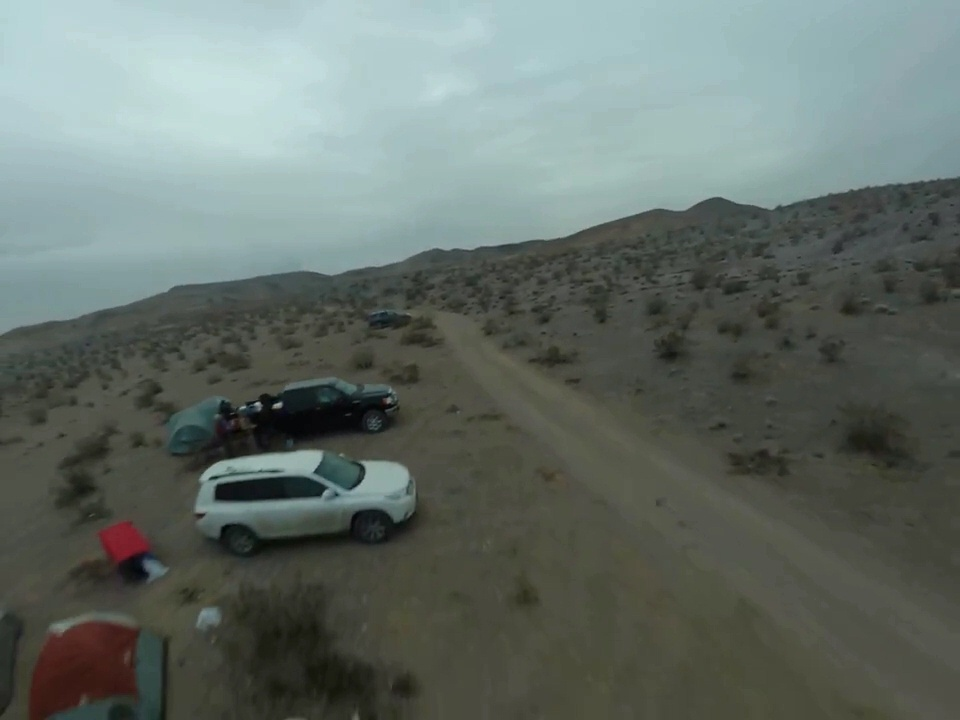araba: (190, 446, 419, 555), (368, 308, 416, 330)
kamyonet: (231, 380, 400, 444)
